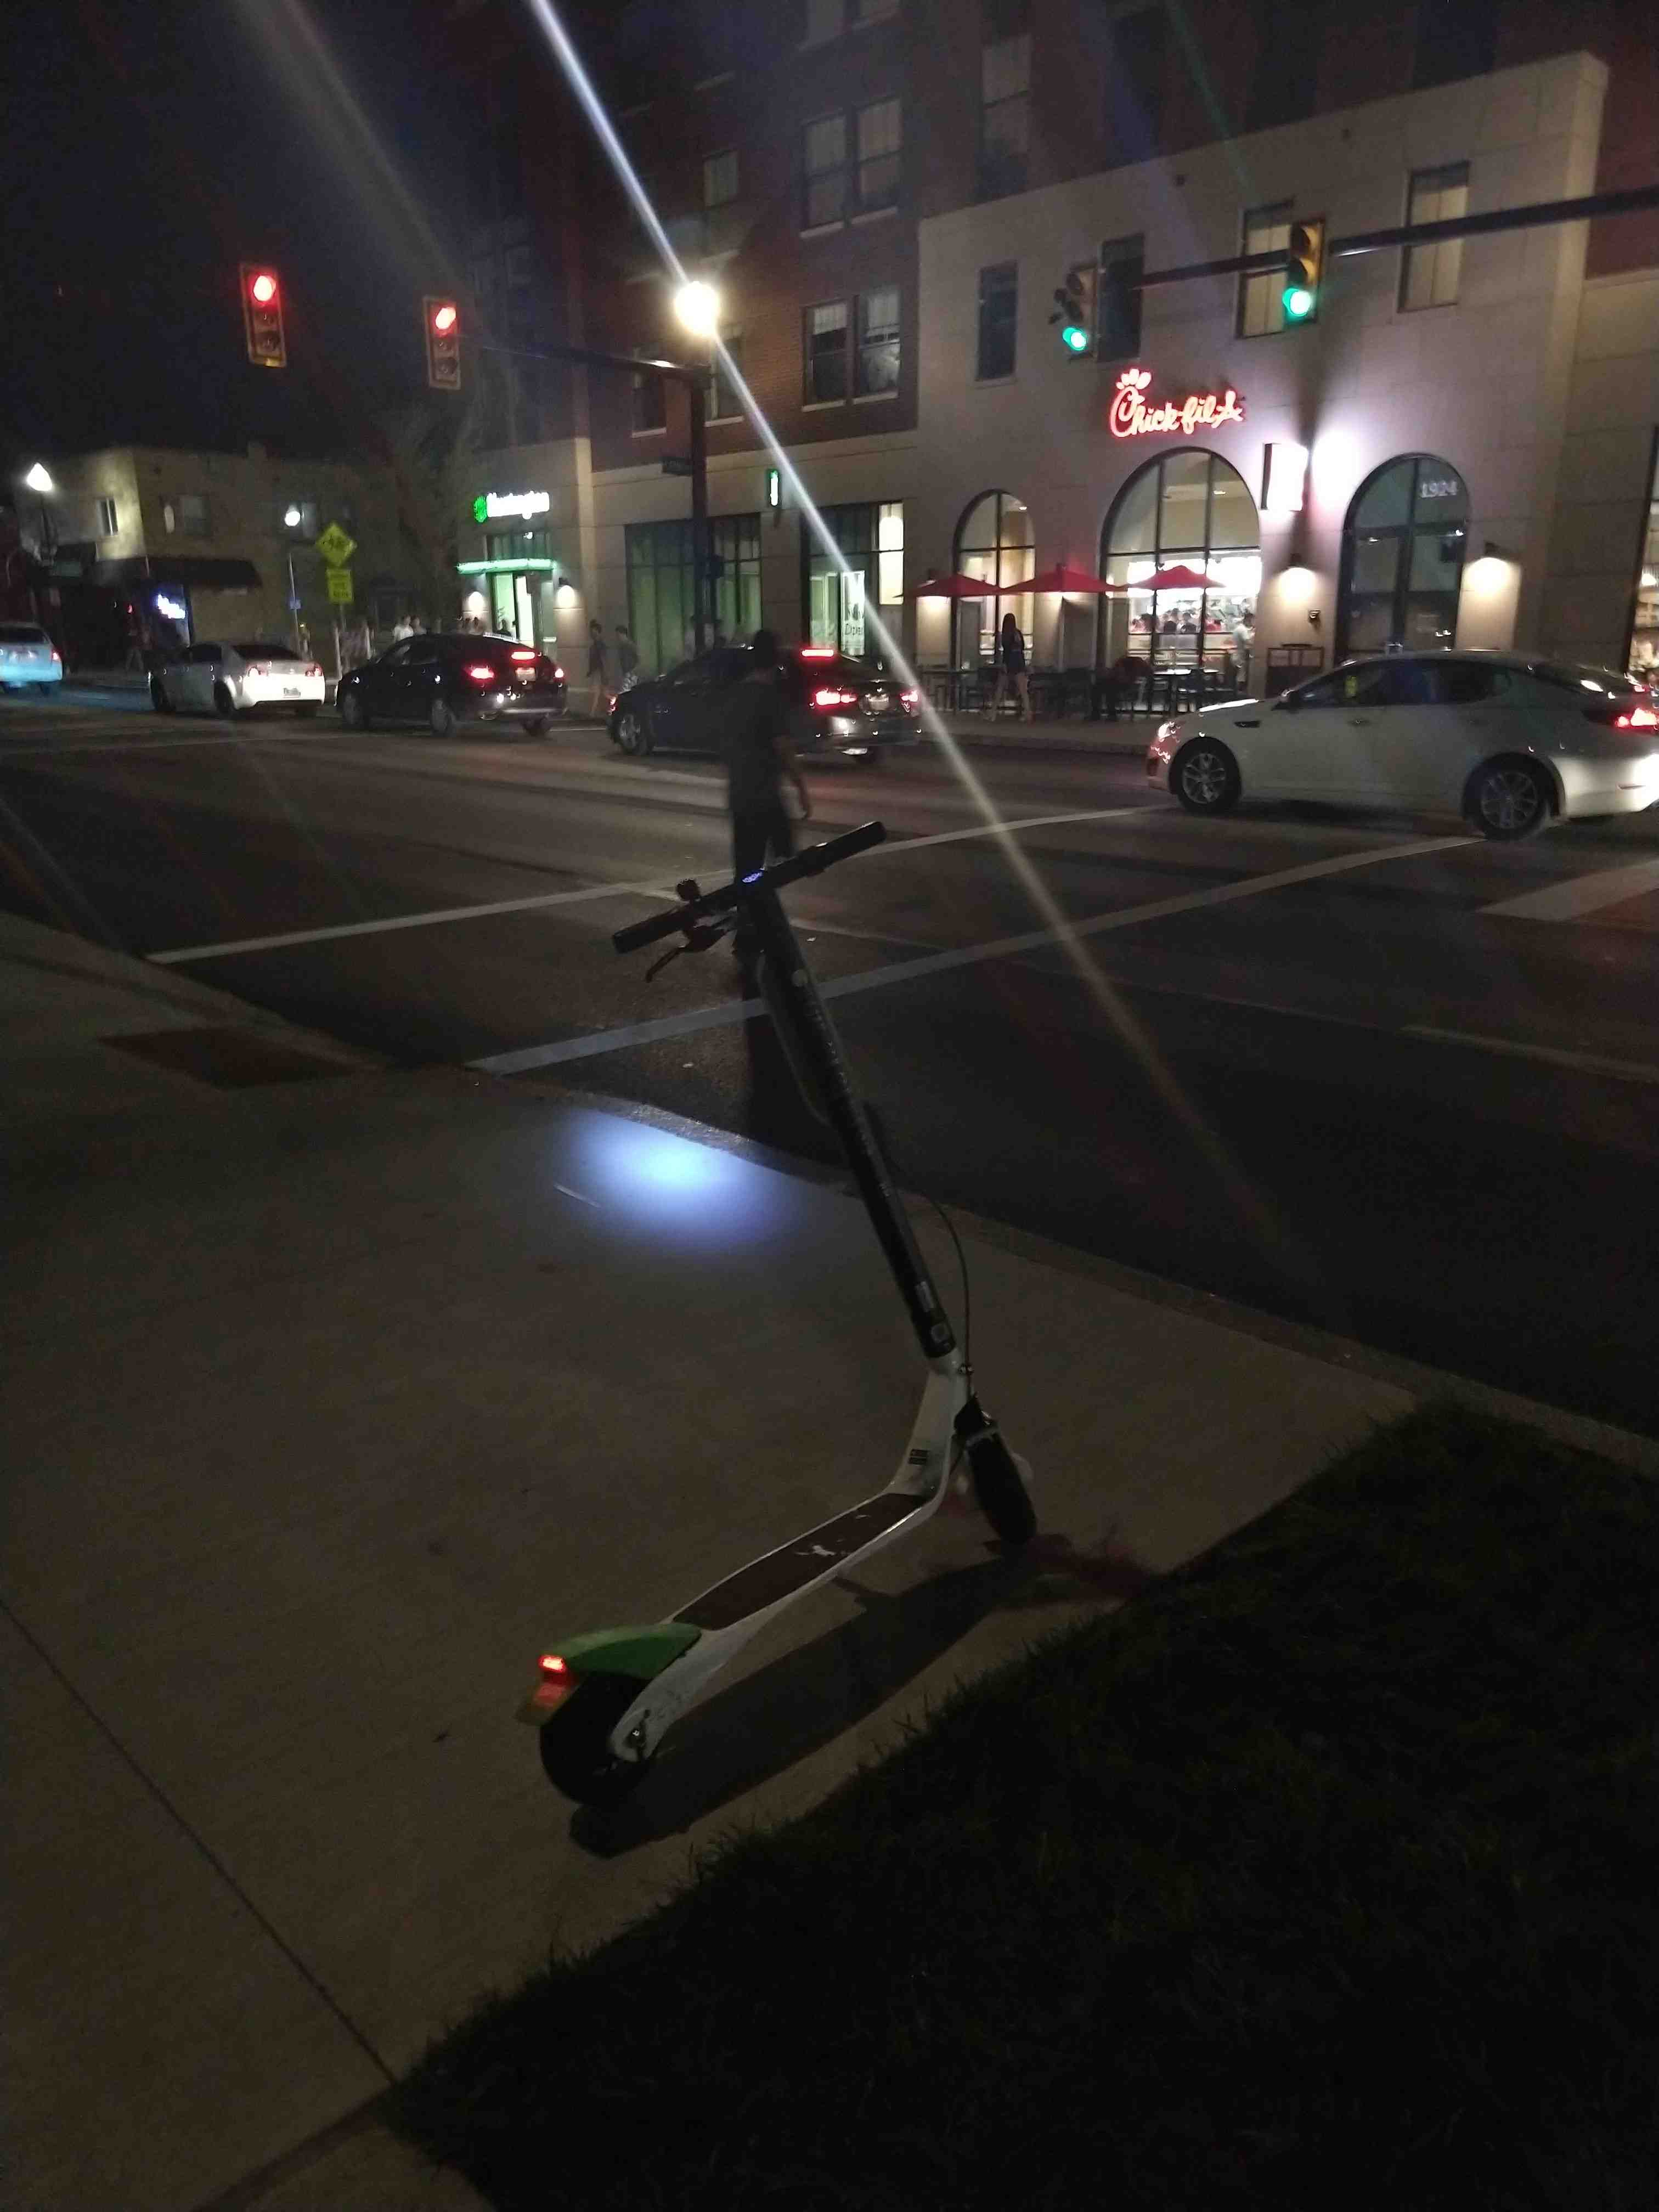scooter: (495, 812, 1056, 1825)
